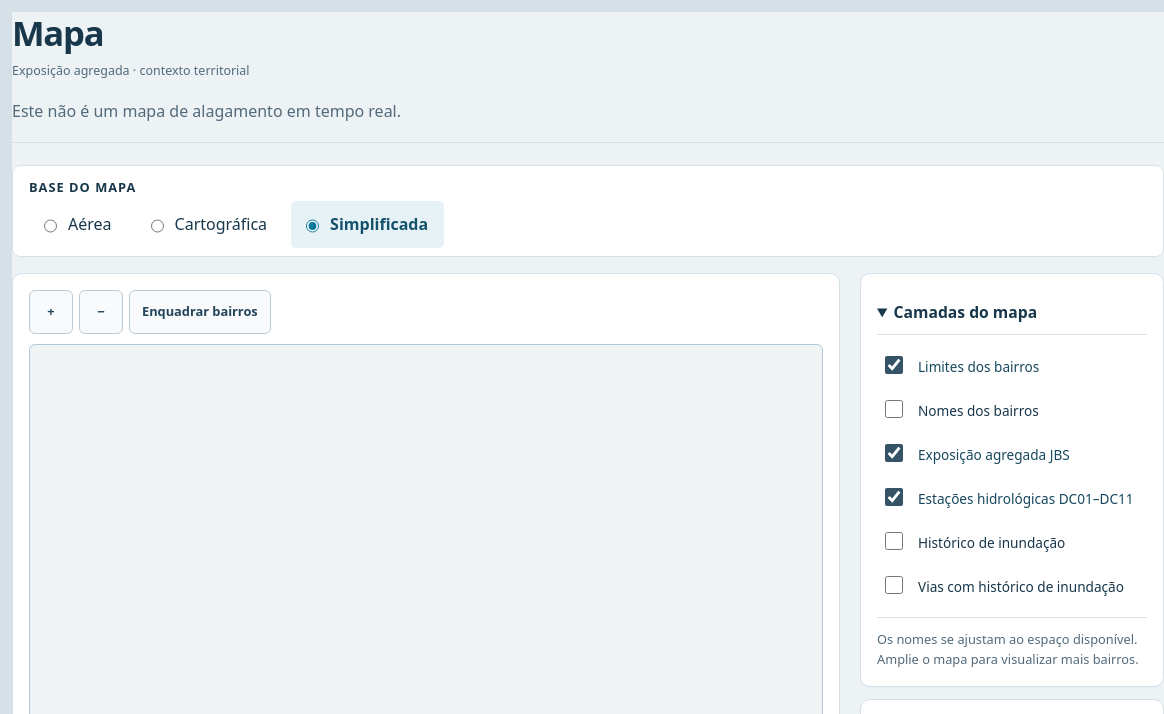
Test: Fase 07.1 — controles, lazy loading e falhas independentes › falha cartografica aciona Simplificada sem loop e permite nova tentativa manual
Click the radio button labelled "Cartográfica": (157, 226) [150,204,164,248]
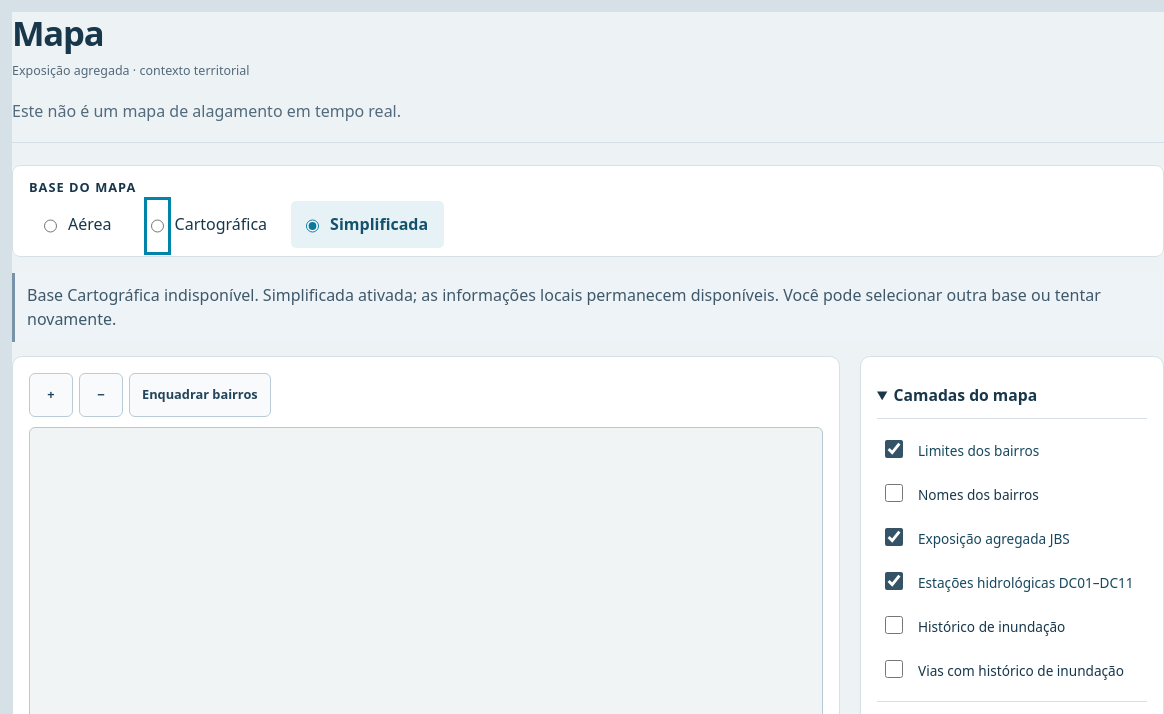
Expected: the radio button labelled "Simplificada" is checked, [306,204,319,248]
Now the text "Simplificada ativada" is shown, box [27,284,1101,330]
Click the radio button labelled "Cartográfica": (157, 226) [150,204,164,248]
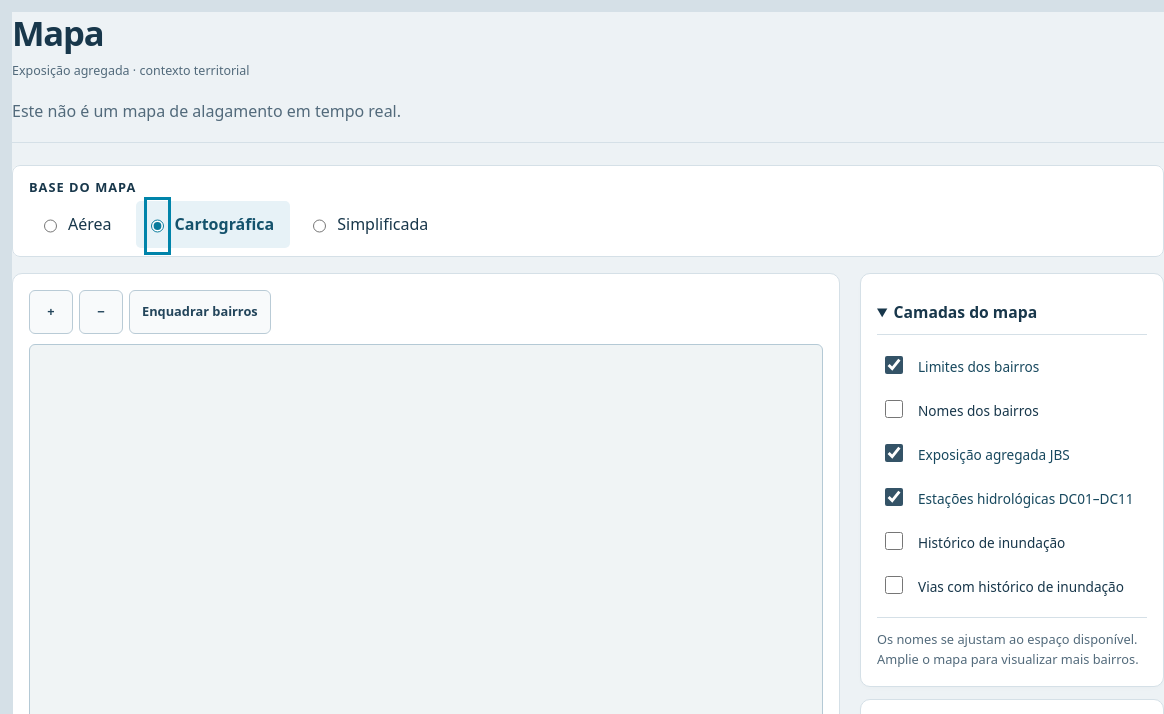
Now the text "Simplificada ativada" is gone
